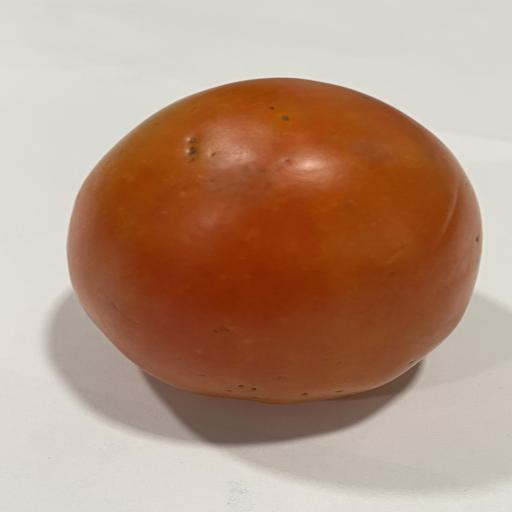ripe: (68, 78, 482, 403)
